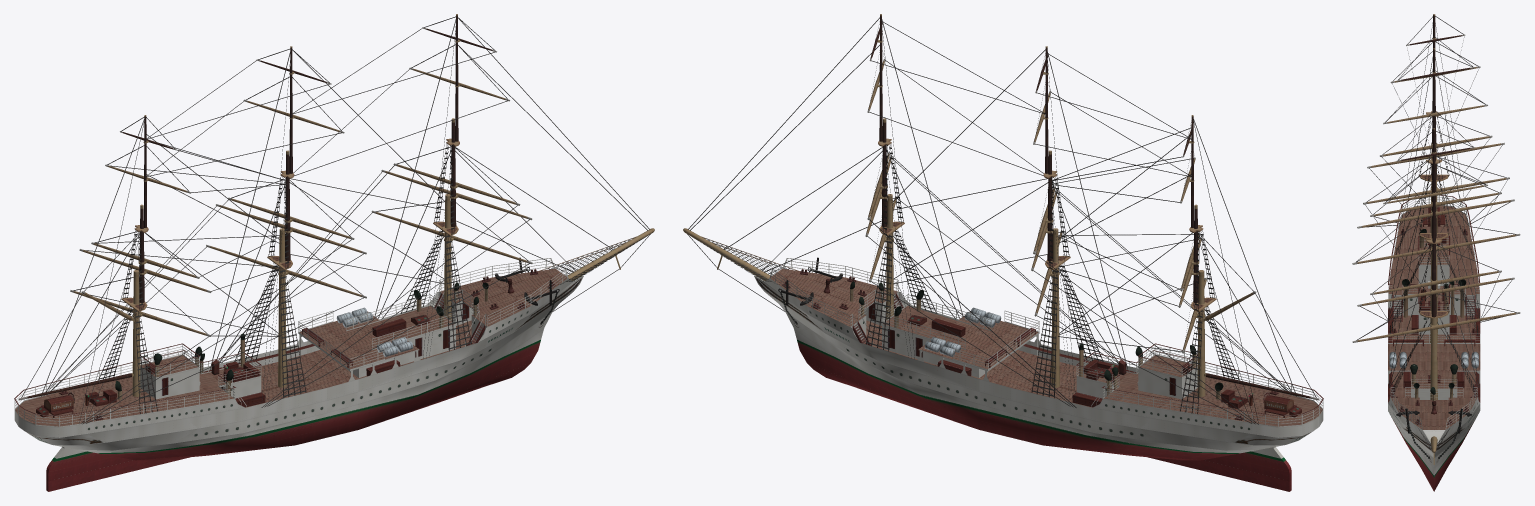
Rendered from srlandet.glb.
The picture shows the model from 3 angles, left to right: view 1: azimuth 30°, elevation 25°; view 2: azimuth 150°, elevation 25°; view 3: azimuth 270°, elevation 25°; orthographic projection. The views are drawn at different scales.
Visible parts, largest first — view 1: Object001_skp_front_default_0; view 2: Object001_skp_front_default_0; view 3: Object001_skp_front_default_0.
Part boxes in pixels (left/top/right/bottom): Object001_skp_front_default_0: left=14, top=14, right=654, bottom=491; Object001_skp_front_default_0: left=683, top=14, right=1323, bottom=491; Object001_skp_front_default_0: left=1352, top=14, right=1520, bottom=491.
Bounding box in the file's own units: 6408 × 3710 × 1634.
1 material, 1 textured.
